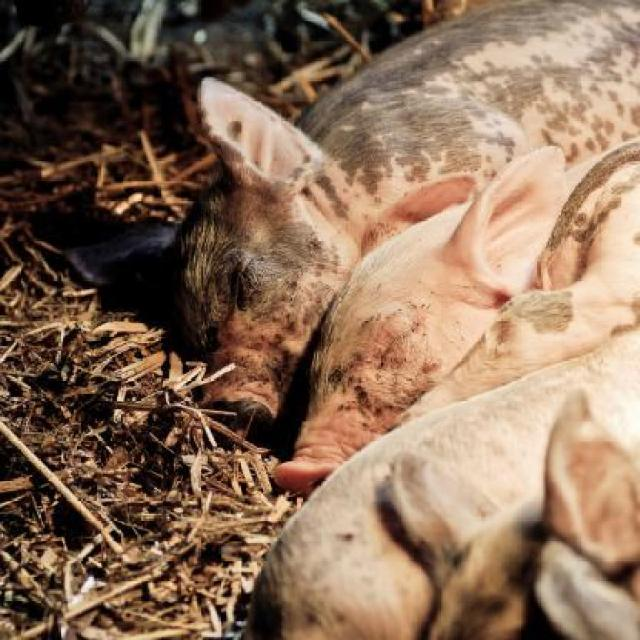Boar: (63, 0, 640, 638)
